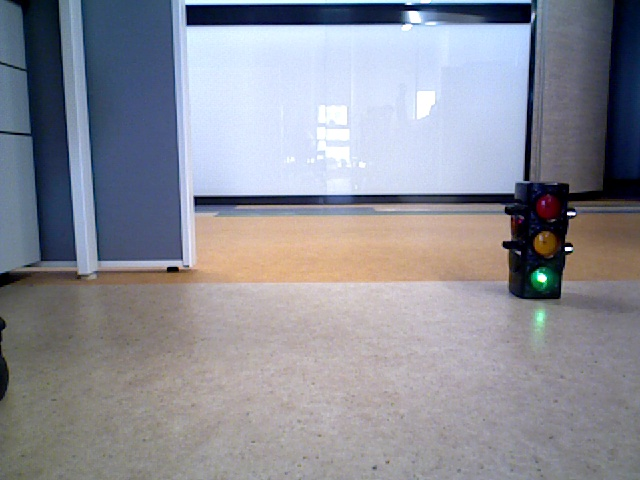green: (518, 184, 561, 295)
